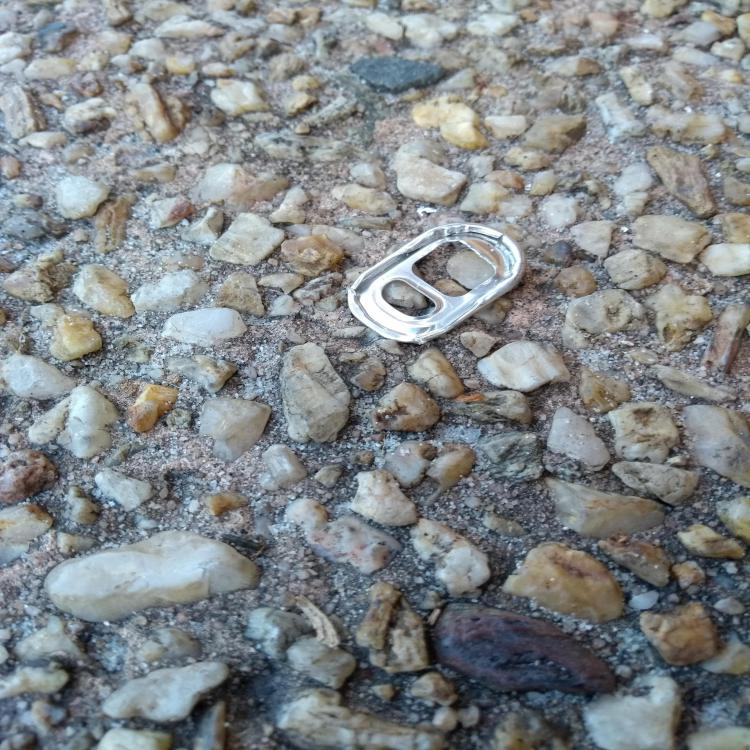Pop tab: (348, 222, 526, 345)
